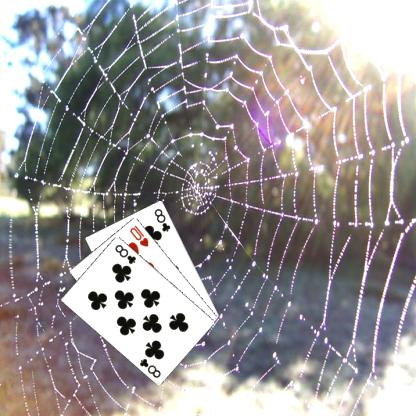10H: (129, 223, 152, 248)
8C: (114, 242, 139, 265), (139, 356, 164, 378), (154, 206, 174, 233)
